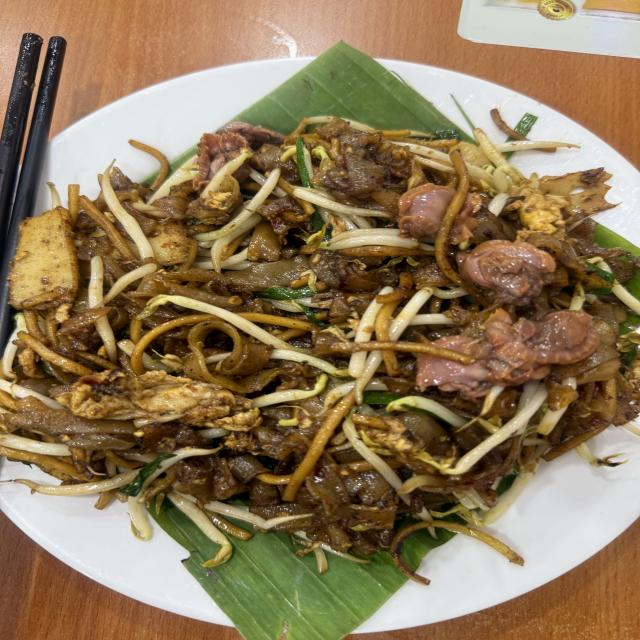Char Kway Teow: (8, 17, 628, 558)
